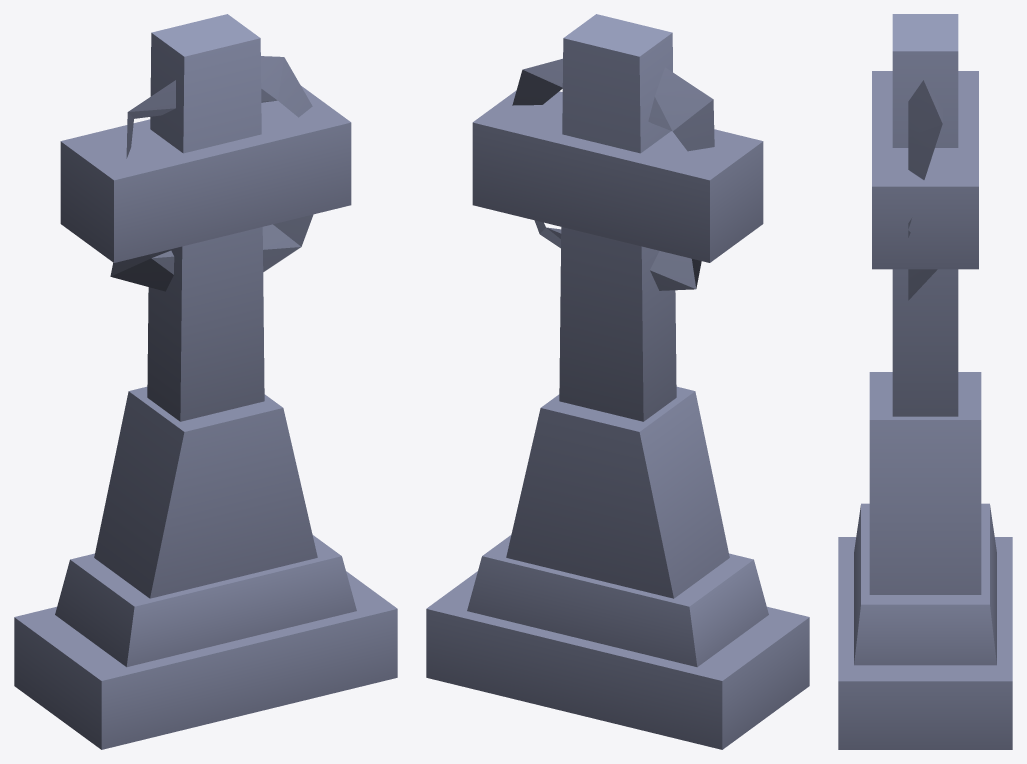
Rendered from K_gravestone-cross-large_lod.glb.
3 renders of one model, left to right at view 1: azimuth 30°, elevation 25°; view 2: azimuth 150°, elevation 25°; view 3: azimuth 270°, elevation 25°, orthographic.
Parts seen in each view (by area): view 1: gravestone-cross-large; view 2: gravestone-cross-large; view 3: gravestone-cross-large.
Part boxes in pixels (left/top/right/bottom): gravestone-cross-large: left=14, top=14, right=397, bottom=749; gravestone-cross-large: left=426, top=14, right=809, bottom=749; gravestone-cross-large: left=838, top=14, right=1012, bottom=749.
Size of the model in its own units: 0.45 by 0.9383 by 0.23.
